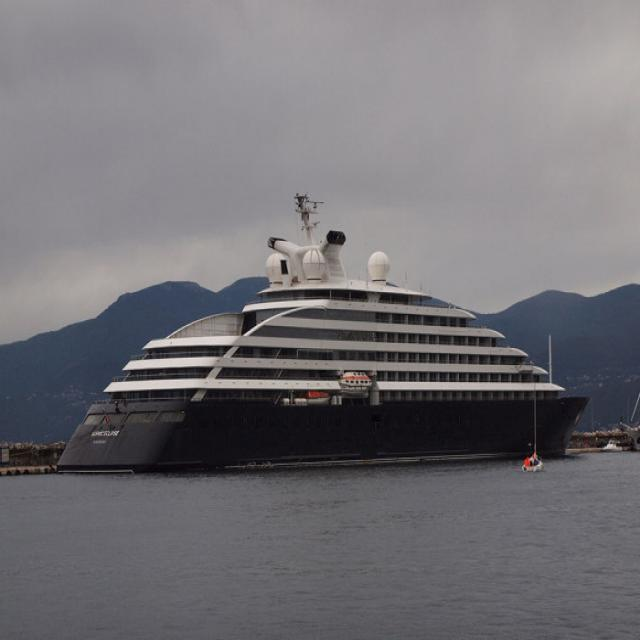cruises: (54, 191, 593, 480)
